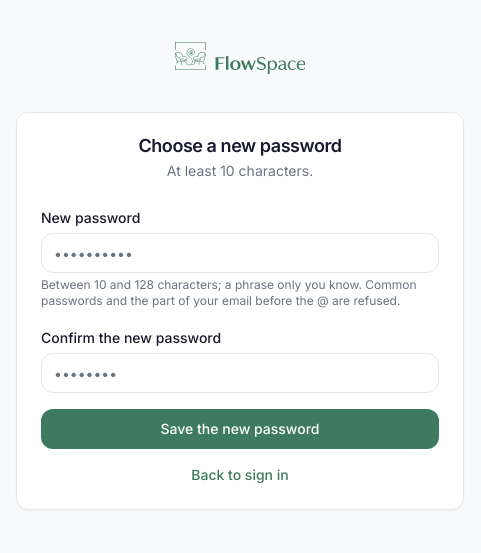
Test case: Password pages in English (B65) › reset-password: the reasons a 422 carries are shown as the API wrote them, whatever the locale
The image size is (481, 553).
Type "novapass123" into the password field labelled "New password" at (240, 253), box [41, 233, 439, 273]
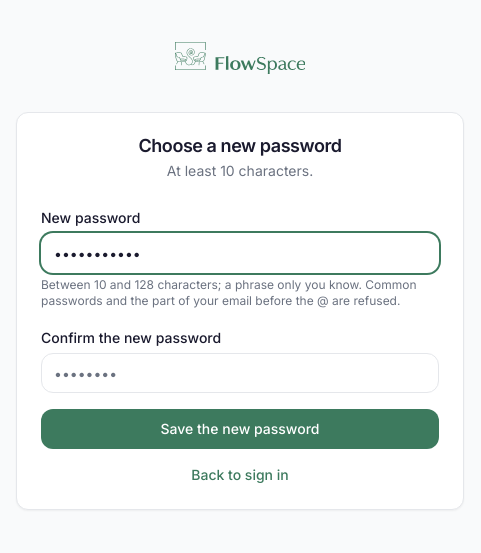
Type "novapass123" into the password field labelled "Confirm the new password" at (240, 373), box [41, 353, 439, 393]
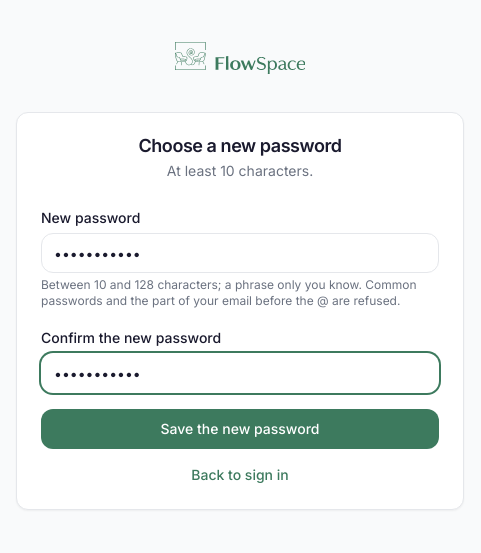
Click the button "Save the new password" at (240, 429), box [41, 409, 439, 449]
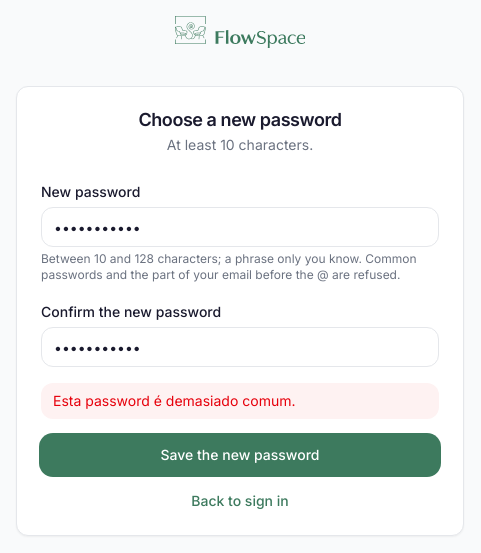
Expected: the message reads "Esta password é demasiado comum.", [53, 392, 296, 409]
